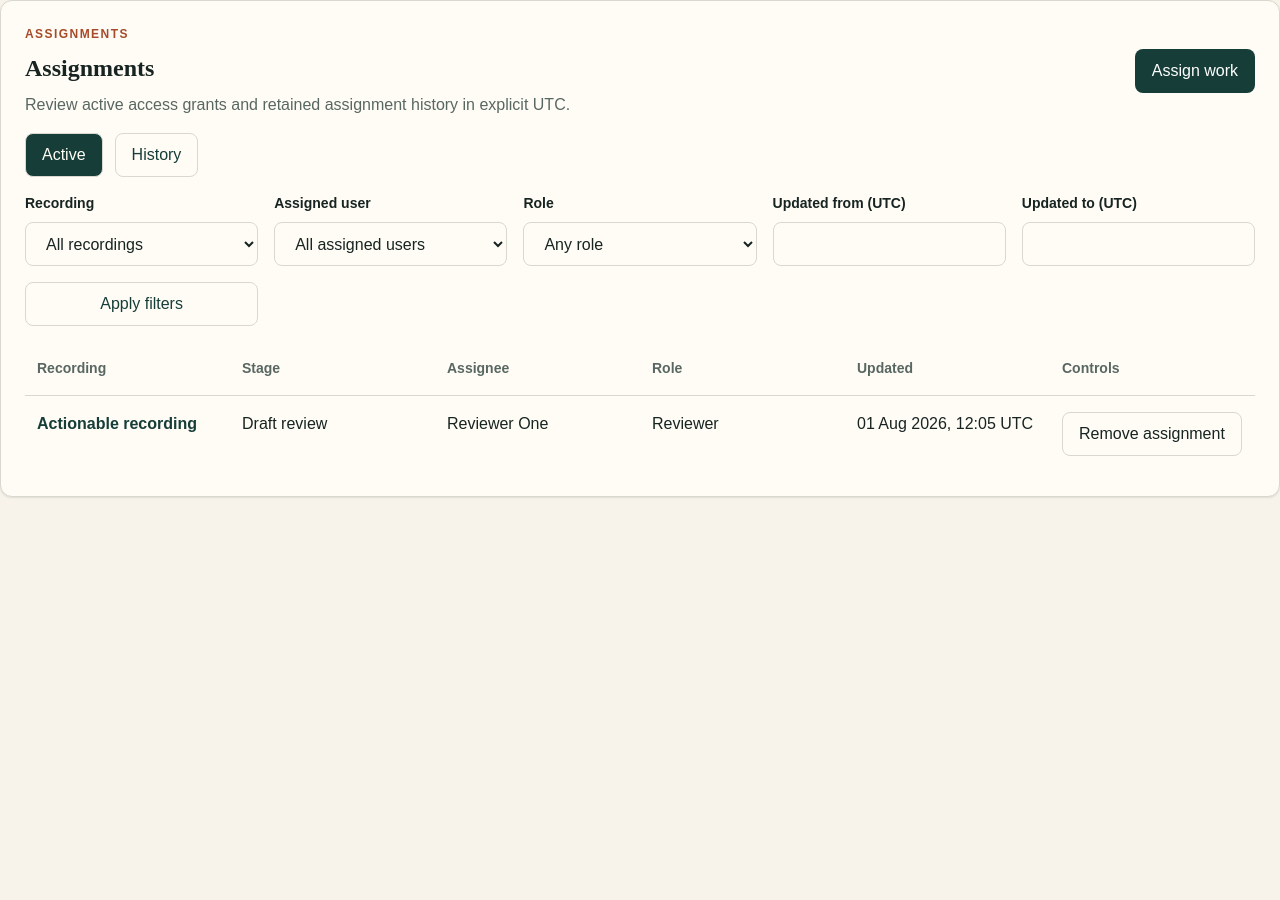
AssignmentsSection › confirms removal with immediate access revocation and retained history
Click the button "Remove assignment" at (1152, 434), box [1062,412,1242,456]
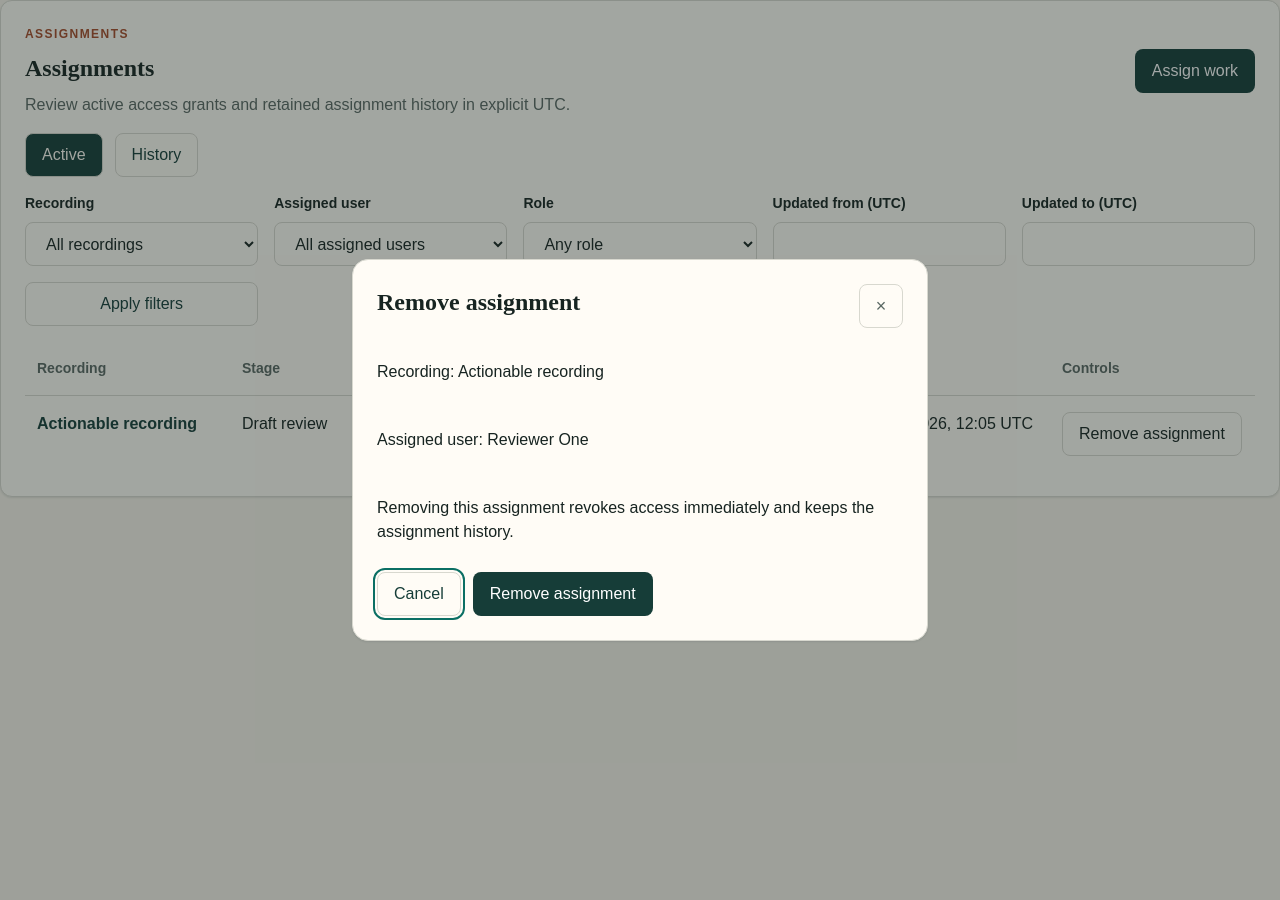
expect the text "Recording: Actionable recording" is shown: met, box [377,363,604,380]
expect the text "Assigned user: Reviewer One" is shown: met, box [377,431,589,448]
expect the text "Removing this assignment revokes access immediately and keeps the assignment history." is shown: met, box [377,499,874,540]
Click the button "Remove assignment" at (563, 594), box [473,572,653,616]
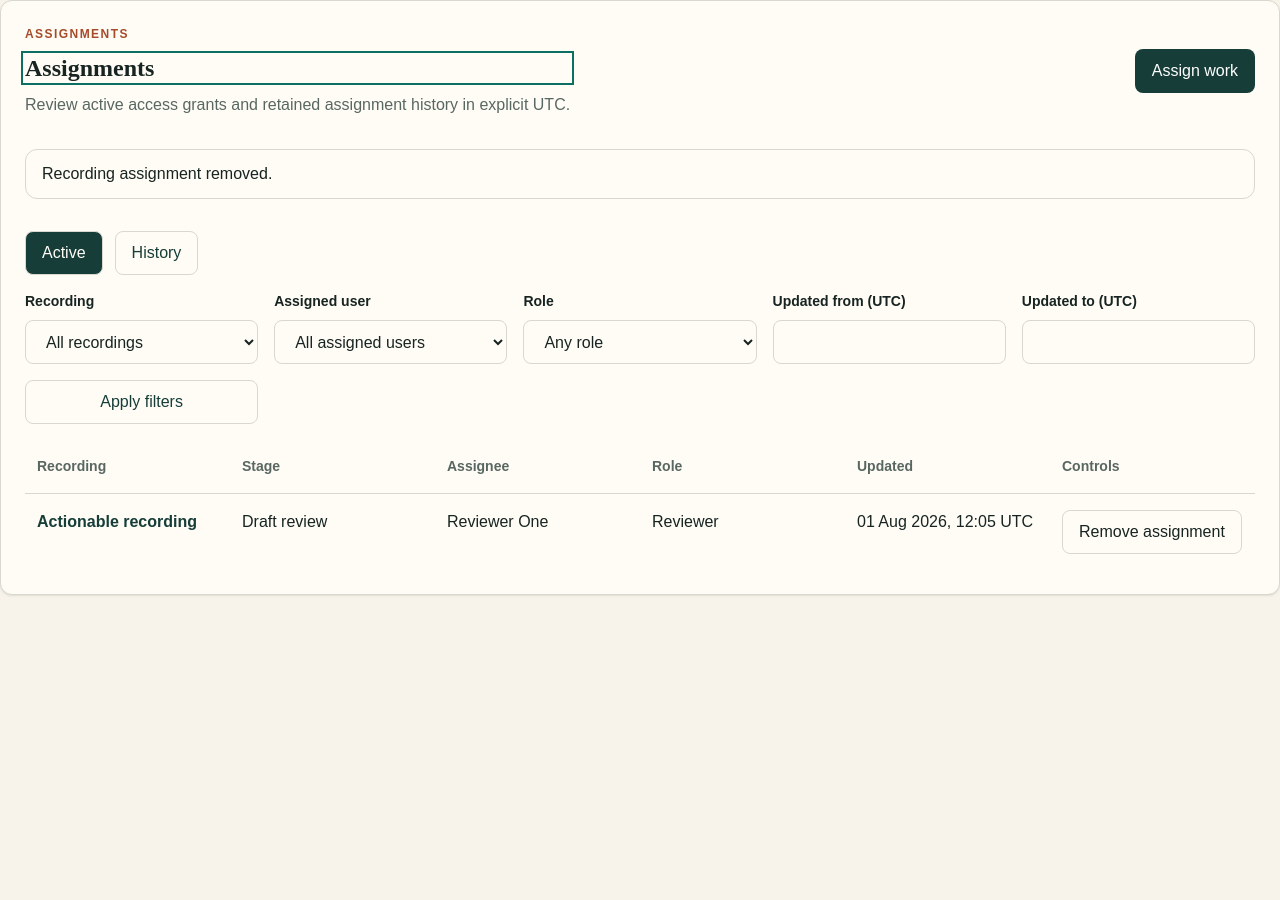
expect the message reads "Recording assignment removed.": met, box [42,165,272,182]
